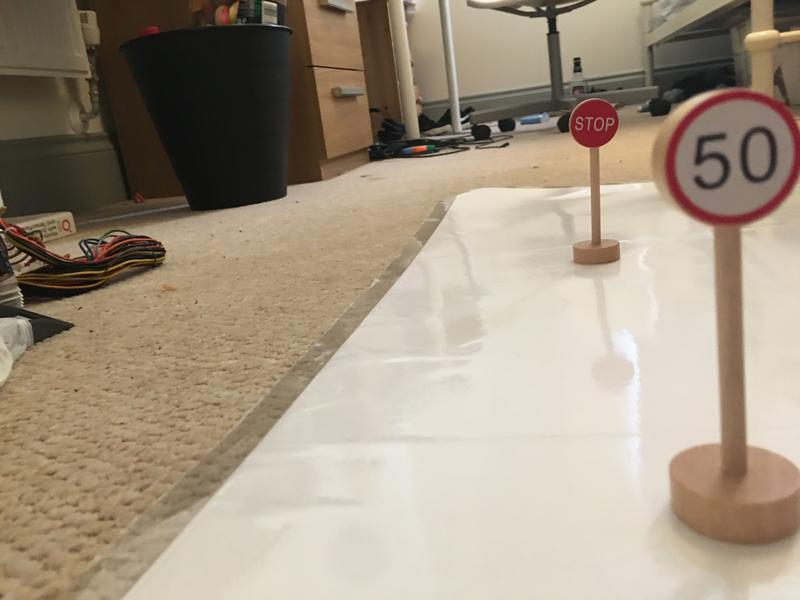Traffic_Sign_50: (659, 90, 800, 222)
Traffic_Sign_Stop: (569, 99, 617, 147)
